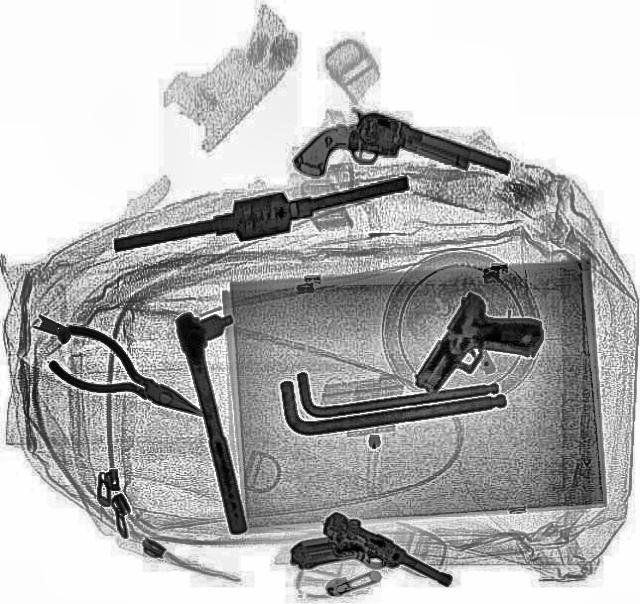Gun: (288, 92, 512, 234), (410, 288, 552, 420), (288, 503, 424, 603)
Pliers: (42, 320, 218, 440)
